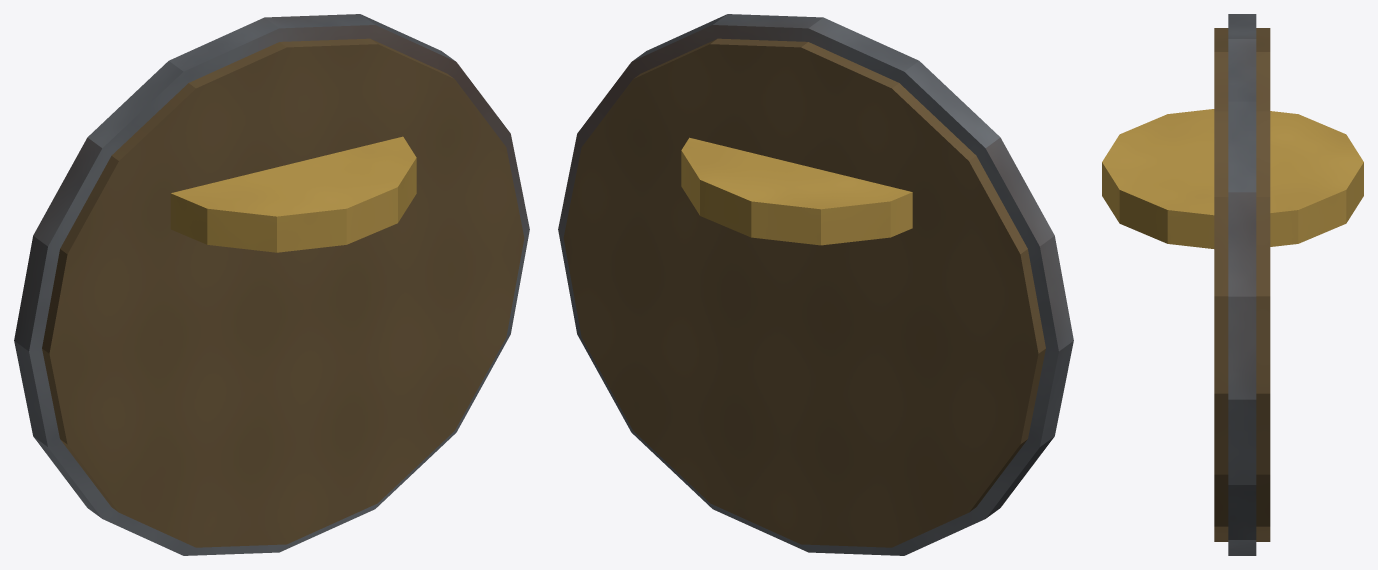
File: crest_mundor_crown.fbx
3 renders of one model, left to right at view 1: azimuth 30°, elevation 25°; view 2: azimuth 150°, elevation 25°; view 3: azimuth 270°, elevation 25°, orthographic. The views are drawn at different scales.
Parts seen in each view (by area): view 1: crest_mundor_crown; view 2: crest_mundor_crown; view 3: crest_mundor_crown.
Boxes of the visible parts, <box> form: crest_mundor_crown: <box>14,14,529,555</box>; crest_mundor_crown: <box>558,14,1073,555</box>; crest_mundor_crown: <box>1102,14,1363,555</box>.
Size of the model in its own units: 1.16 by 1.16 by 0.56.
